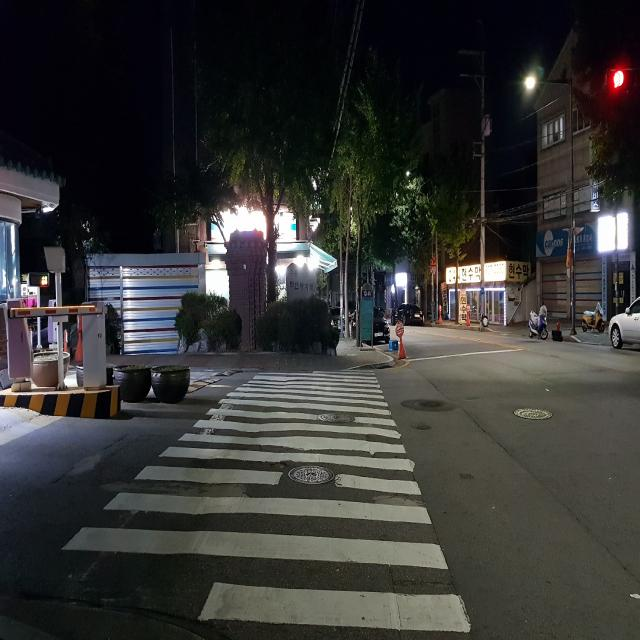횡단보도: (57, 363, 473, 640)
